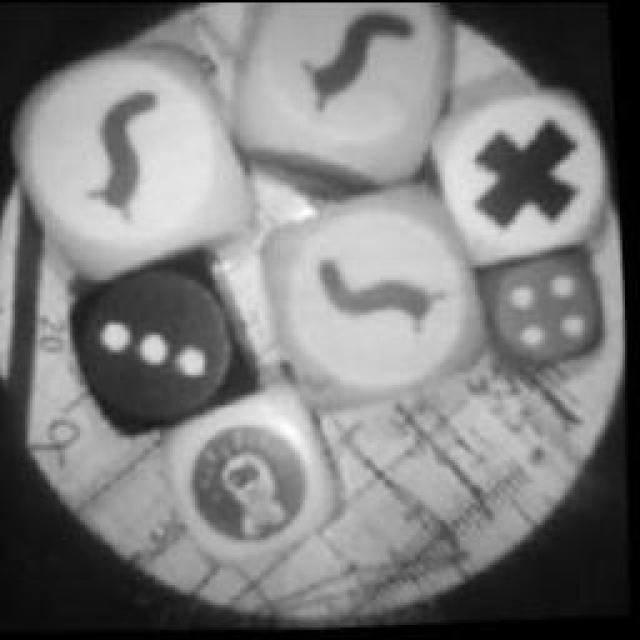dice_3: (62, 228, 270, 444)
dice_4: (472, 236, 612, 382)
